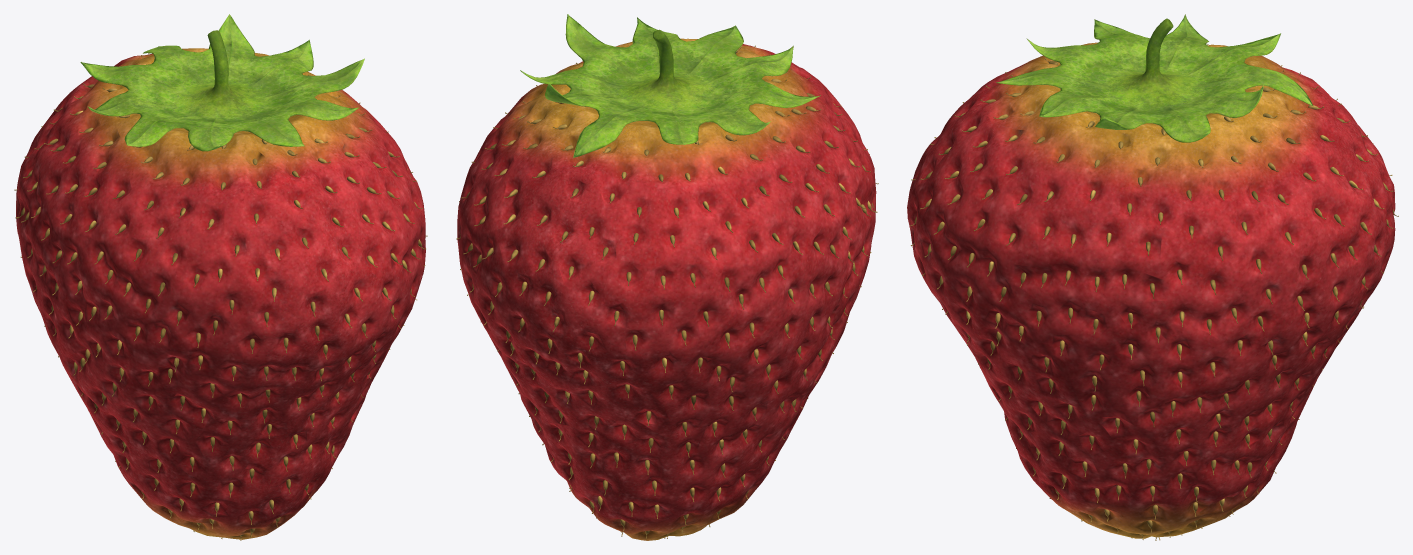
Rendered from strawberry_fruit.glb.
The picture shows the model from 3 angles, left to right: view 1: azimuth 30°, elevation 25°; view 2: azimuth 150°, elevation 25°; view 3: azimuth 270°, elevation 25°; orthographic projection. The views are drawn at different scales.
Parts seen in each view (by area): view 1: g (×3); view 2: g (×3); view 3: g (×3).
Boxes of the visible parts, x1,y1,x2,y2 form: g (×3): (14,14,427,540); g (×3): (456,14,878,540); g (×3): (907,14,1398,540).
Size of the model in its own units: 0.0946 by 0.1336 by 0.1149.
1 material, 1 textured.
